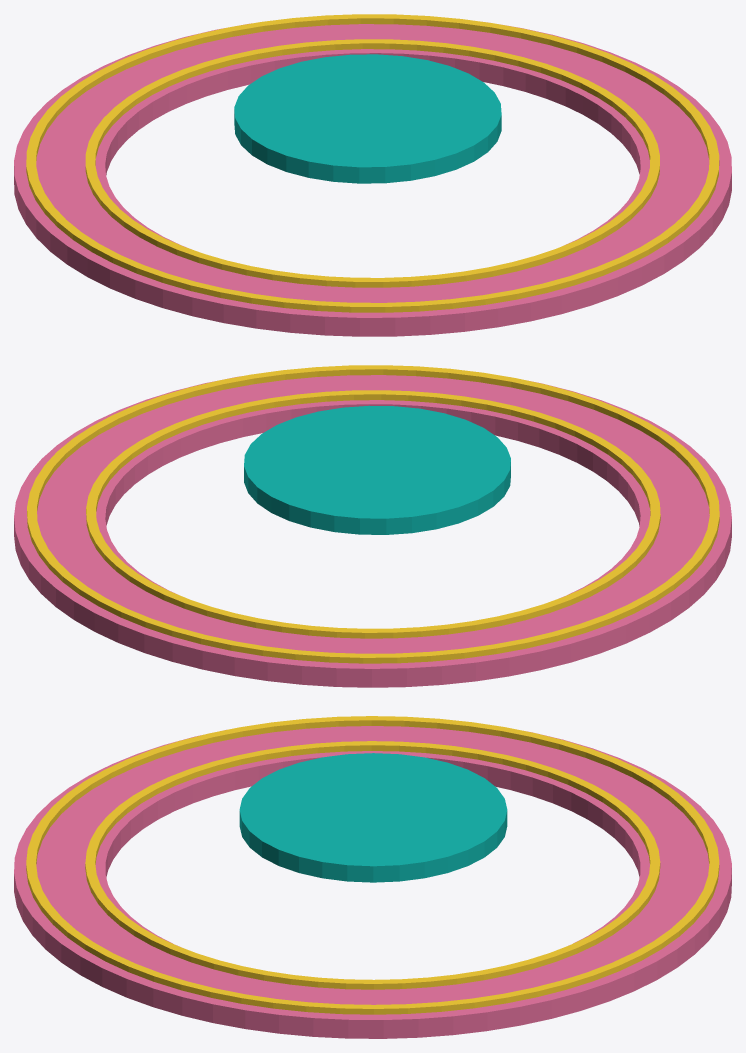
Rendered from chuchu-base.fbx.
3 renders of one model, top to bottom at view 1: azimuth 30°, elevation 25°; view 2: azimuth 150°, elevation 25°; view 3: azimuth 270°, elevation 25°, orthographic.
Visible parts, largest first — view 1: railbase, rail-rail, Cylinder; view 2: railbase, rail-rail, Cylinder; view 3: railbase, rail-rail, Cylinder.
Boxes of the visible parts, left/top/right/bottom form: railbase: left=14, top=23, right=731, bottom=336; rail-rail: left=26, top=14, right=719, bottom=312; Cylinder: left=234, top=54, right=501, bottom=183; railbase: left=14, top=375, right=731, bottom=687; rail-rail: left=27, top=365, right=719, bottom=663; Cylinder: left=244, top=405, right=510, bottom=534; railbase: left=14, top=726, right=731, bottom=1038; rail-rail: left=26, top=716, right=719, bottom=1014; Cylinder: left=239, top=753, right=507, bottom=882.
Size of the model in its own units: 1036 by 120 by 1036.
